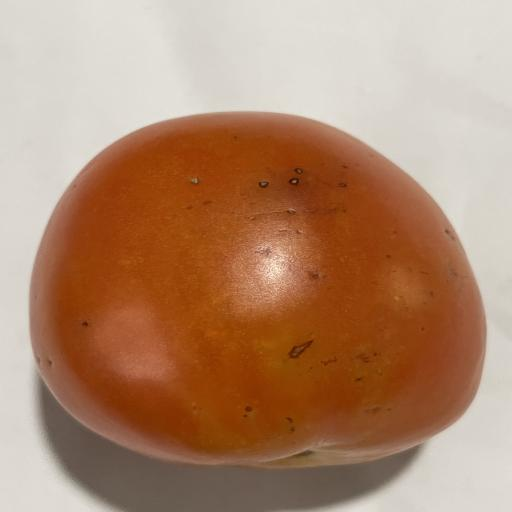unripe: (30, 112, 485, 468)
